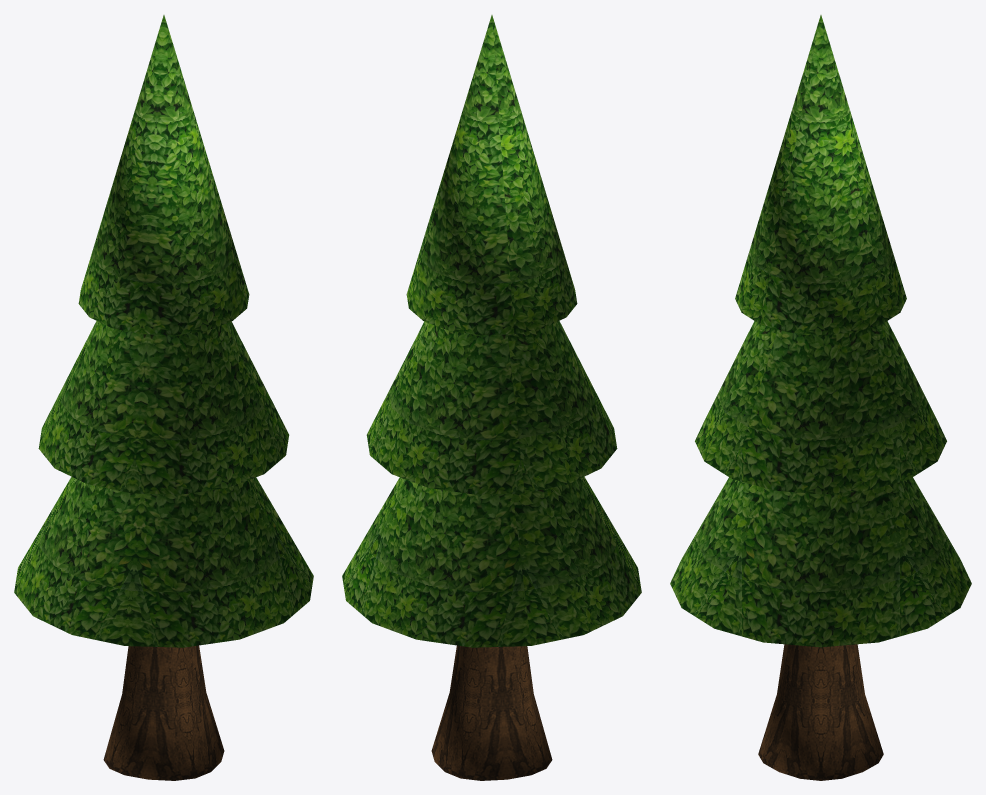
Rendered from tree.glb.
3 renders of one model, left to right at view 1: azimuth 30°, elevation 25°; view 2: azimuth 150°, elevation 25°; view 3: azimuth 270°, elevation 25°, orthographic.
Visible parts, largest first — view 1: Cylinder; view 2: Cylinder; view 3: Cylinder.
Boxes of the visible parts, x1,y1,x2,y2 form: Cylinder: (14,15,313,780); Cylinder: (342,15,641,780); Cylinder: (670,15,971,780).
Size of the model in its own units: 5.76 by 15.6 by 5.76.
2 materials, 2 textured.
